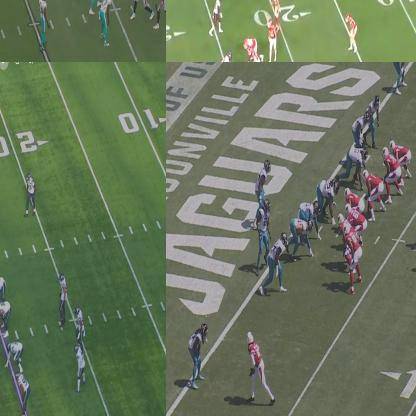CENTER: (344, 184, 364, 215)
DB: (188, 322, 209, 390), (256, 198, 271, 274), (249, 332, 267, 392), (99, 0, 112, 49), (392, 62, 411, 91), (75, 344, 86, 390), (25, 173, 37, 214), (39, 0, 49, 45), (346, 13, 357, 50), (270, 0, 283, 26)
LB: (261, 234, 288, 297), (264, 15, 279, 61), (255, 159, 273, 196), (368, 95, 380, 150), (57, 271, 68, 321), (353, 112, 369, 145), (74, 305, 84, 347), (248, 46, 264, 61)
SKILL: (344, 223, 364, 291), (391, 141, 412, 163), (129, 0, 150, 20), (212, 0, 224, 35), (152, 0, 165, 29)
